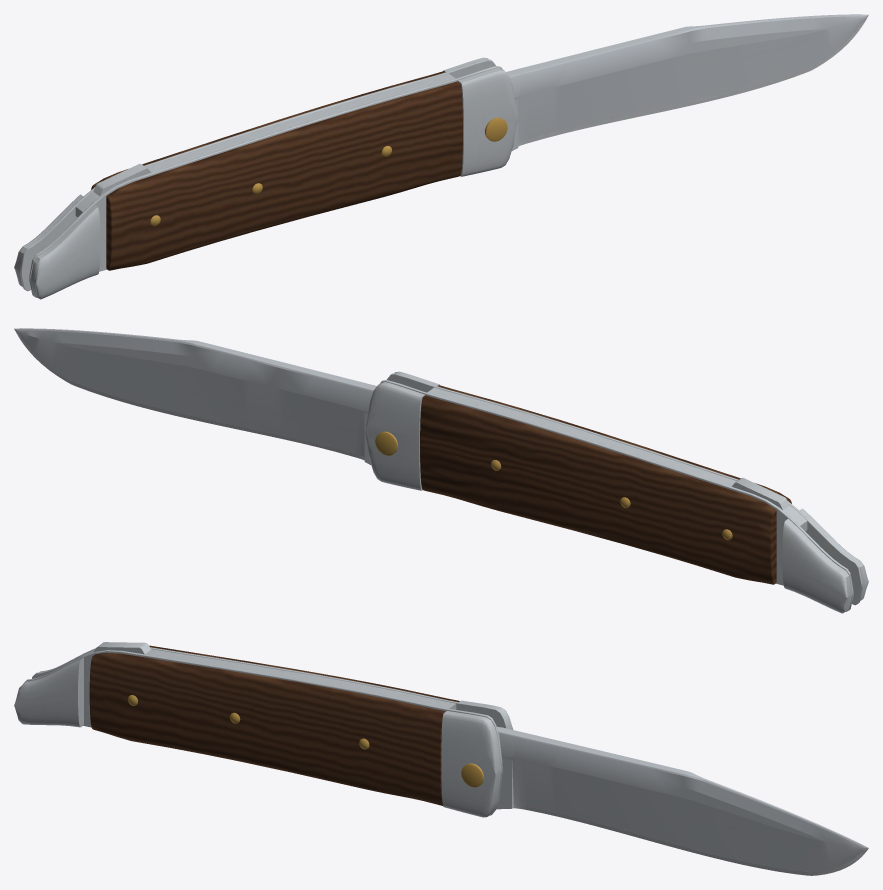
Rendered from navaja_lod1.glb.
3 views of the same model, one above another, from view 1: azimuth 30°, elevation 25°; view 2: azimuth 150°, elevation 25°; view 3: azimuth 330°, elevation 25° (orthographic).
Visible parts, largest first — view 1: body, blade_pivot_mesh; view 2: body, blade_pivot_mesh; view 3: body, blade_pivot_mesh.
Boxes of the visible parts, bbox=[...] form: body: bbox=[14, 57, 517, 299]; blade_pivot_mesh: bbox=[506, 14, 868, 150]; body: bbox=[365, 371, 868, 613]; blade_pivot_mesh: bbox=[14, 328, 376, 464]; body: bbox=[14, 642, 513, 817]; blade_pivot_mesh: bbox=[496, 726, 868, 875].
Bounding box in the file's own units: 0.248 × 0.0335 × 0.013.
5 materials, 5 textured.
